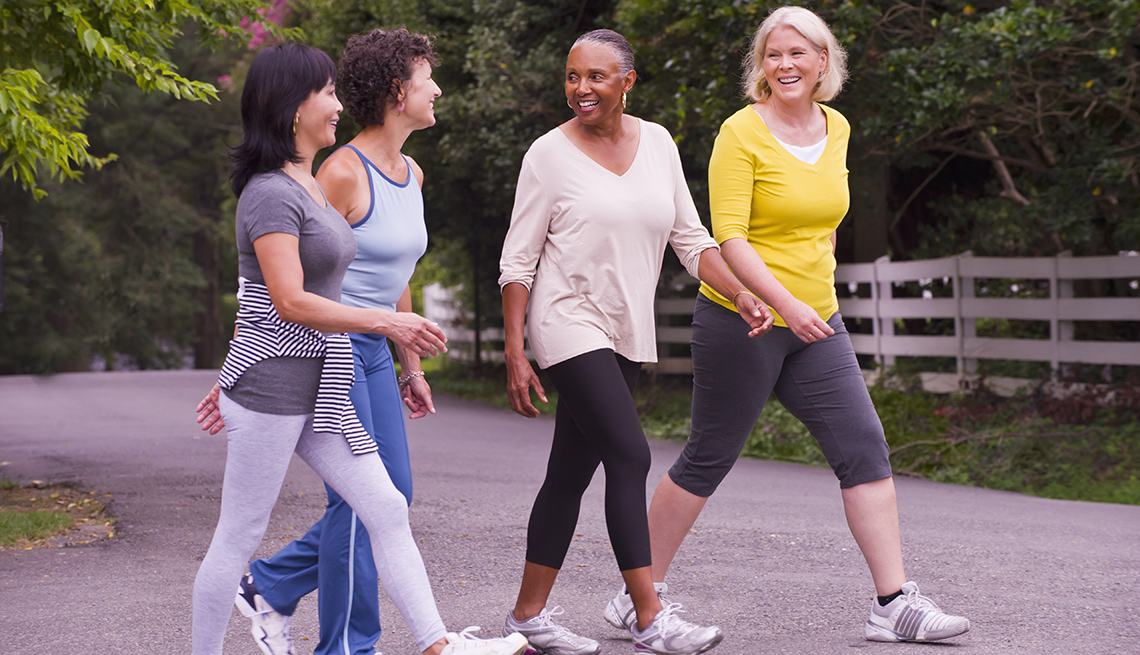Person: (605, 3, 988, 655), (483, 25, 782, 655), (181, 65, 455, 655), (223, 15, 437, 633)
